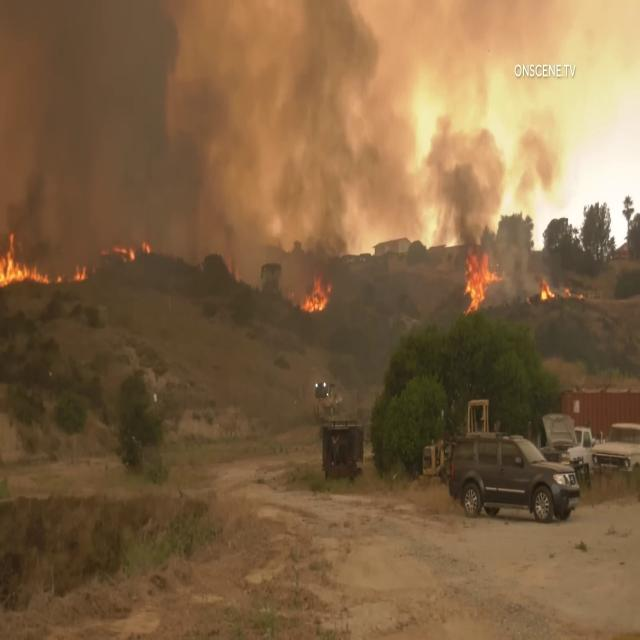fire: (0, 251, 62, 301), (458, 237, 488, 312), (304, 286, 333, 321)
